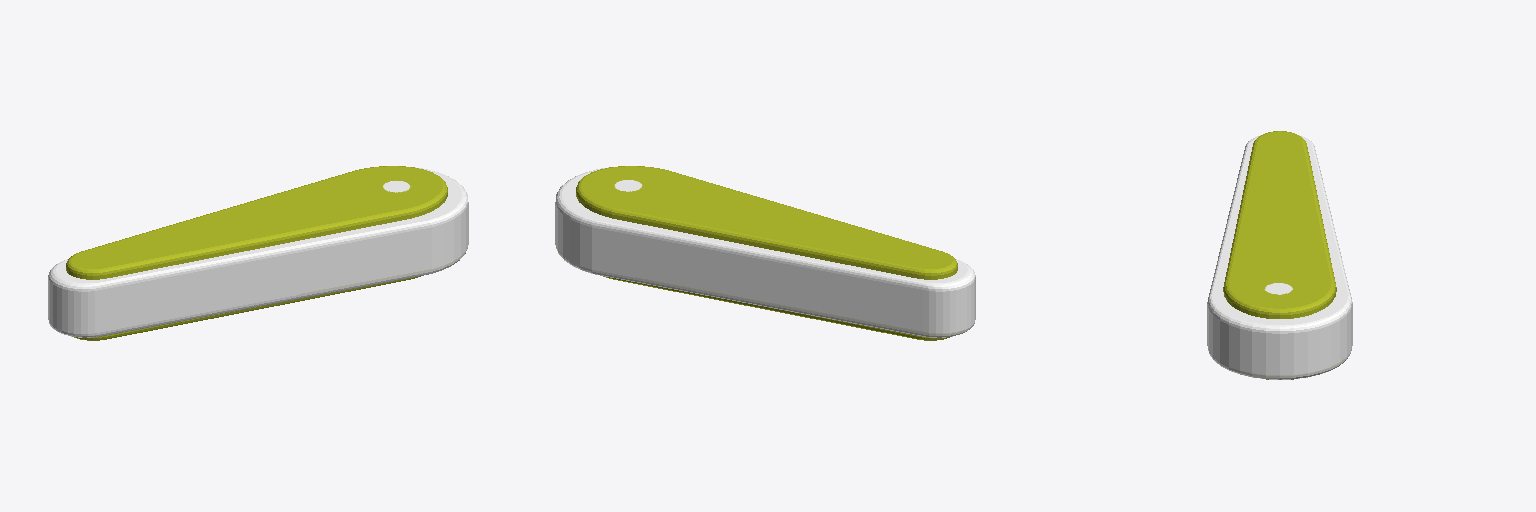
3 renders of one model, left to right at view 1: azimuth 30°, elevation 25°; view 2: azimuth 150°, elevation 25°; view 3: azimuth 270°, elevation 25°, orthographic.
Visible parts, largest first — view 1: Cube; view 2: Cube; view 3: Cube.
Boxes of the visible parts, box(x1,y1,x2,y2) form: Cube: box(48, 166, 468, 340); Cube: box(555, 166, 975, 340); Cube: box(1207, 131, 1352, 379).
Bounding box in the file's own units: 6.45 × 1.08 × 2.
Materials: 1 (1 with a texture image).